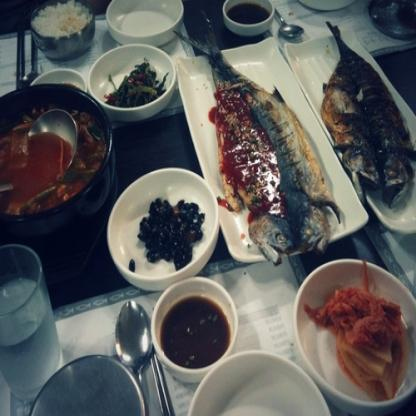Peixe: (201, 42, 328, 258)
